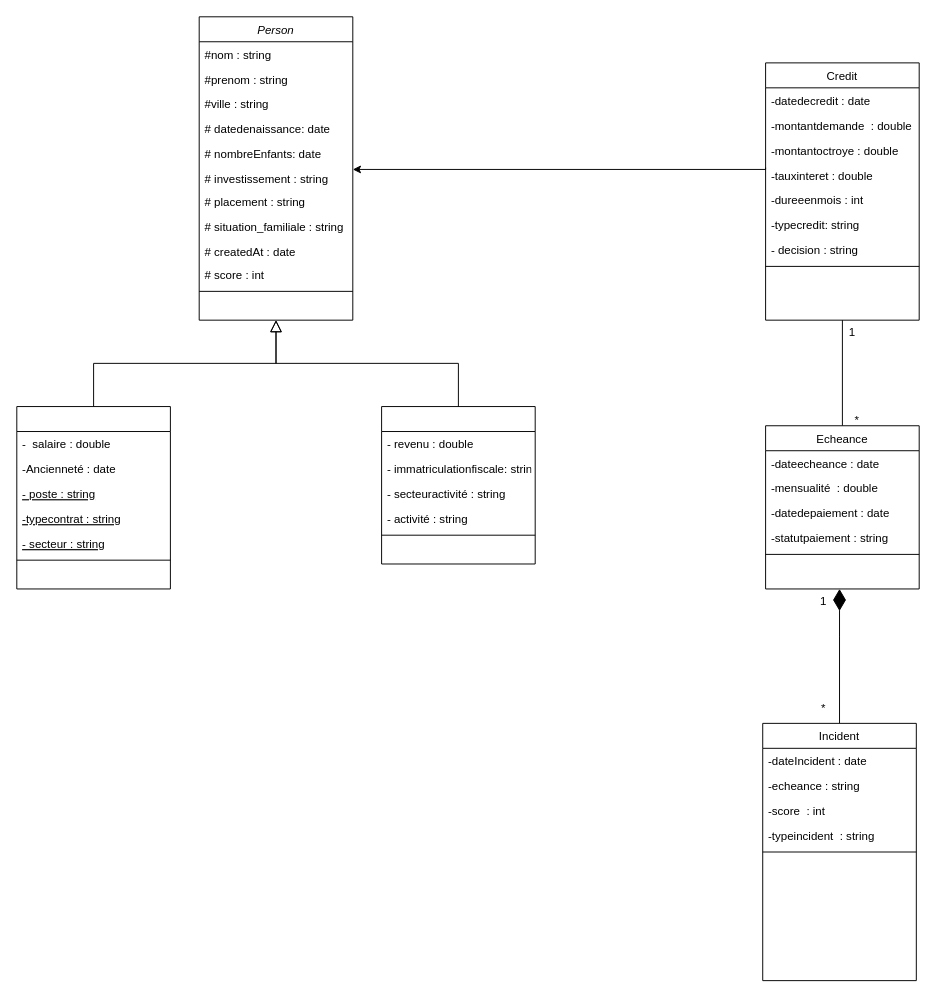
Some shapes in this 936 by 997 pixel diagram are drawn without their labels. The box of each missing label's shape, as (x1, y1, x2, y2) in pixels:
Employe: (16, 406, 170, 589)
Professionnel: (381, 406, 535, 564)
